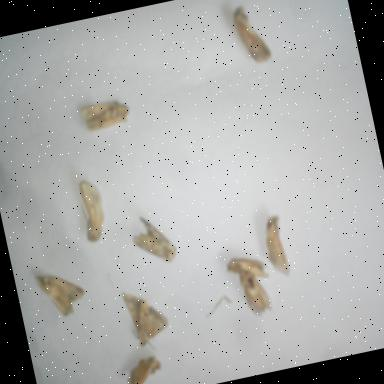abw: (116, 280, 176, 354), (30, 260, 93, 326), (124, 208, 184, 274), (226, 0, 275, 71), (70, 174, 113, 248), (229, 262, 278, 326), (74, 90, 137, 138), (257, 209, 295, 281), (221, 246, 276, 292), (115, 344, 177, 384)
